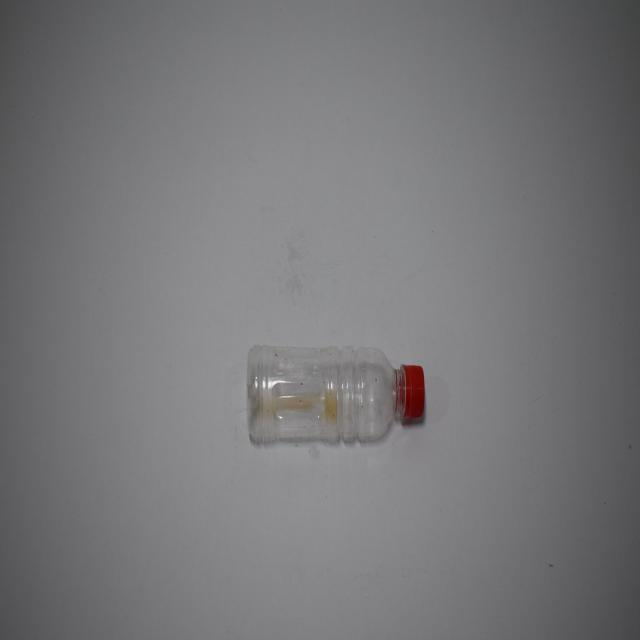empty: (247, 345, 424, 442)
